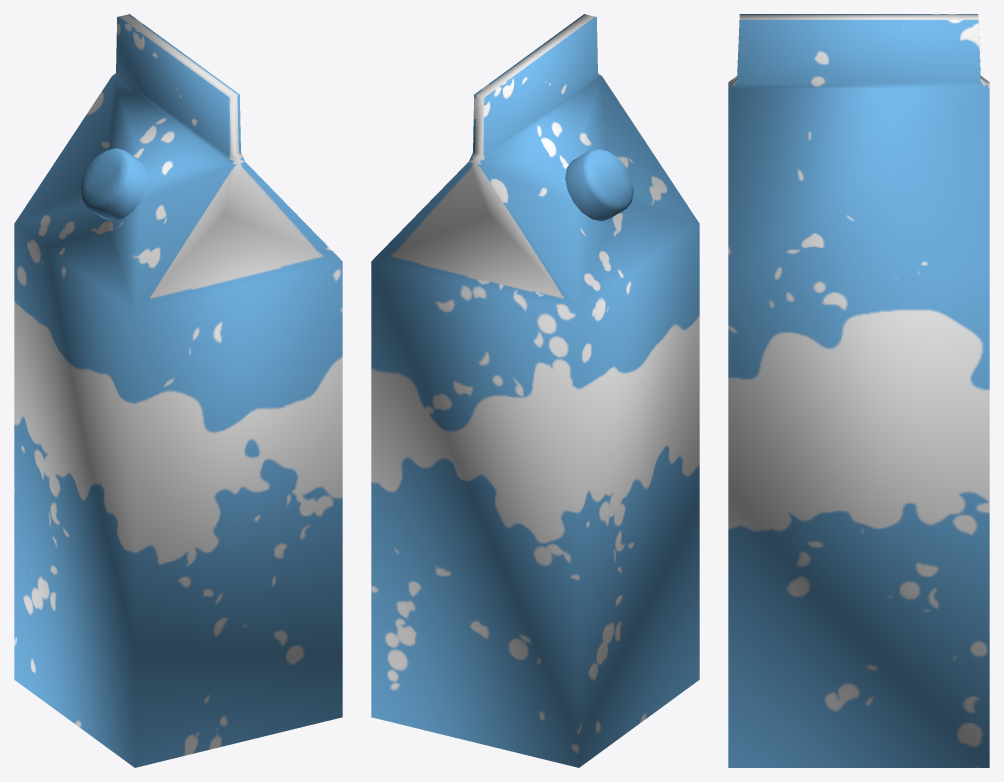
The model's file is milk.glb.
The picture shows the model from 3 angles, left to right: view 1: azimuth 30°, elevation 25°; view 2: azimuth 150°, elevation 25°; view 3: azimuth 270°, elevation 25°; orthographic projection. The views are drawn at different scales.
Visible parts, largest first — view 1: milk, milk.001; view 2: milk, milk.001; view 3: milk.
Boxes of the visible parts, x1,y1,x2,y2 form: milk: [14, 14, 342, 767]; milk.001: [80, 148, 148, 221]; milk: [371, 14, 699, 767]; milk.001: [565, 148, 633, 221]; milk: [728, 14, 989, 767].
Size of the model in its own units: 0.1732 by 0.5116 by 0.1742.
1 material, 1 textured.
